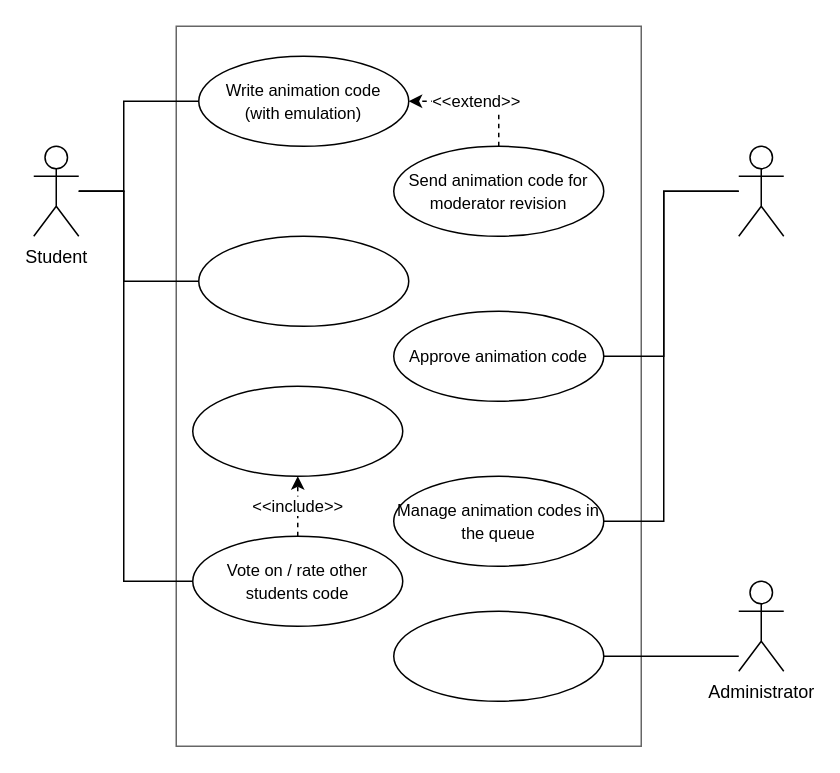
Some shapes in this 840 by 773 pixel diagram are drawn without their labels. The centre of each missing label's shape, as x and y in pixels:
Manage own animation code saved on the site: point (303, 280)
Manage roles and accounts: point (498, 655)
Moderator: point (760, 190)
Watch other student animation code: point (297, 430)
